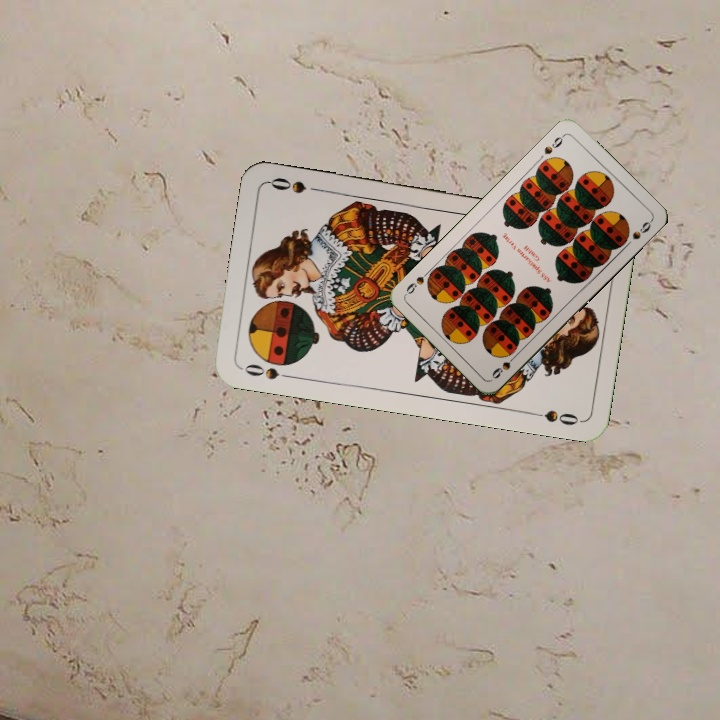S9: (488, 350, 521, 381), (540, 130, 567, 157)
SO: (237, 360, 296, 382)
